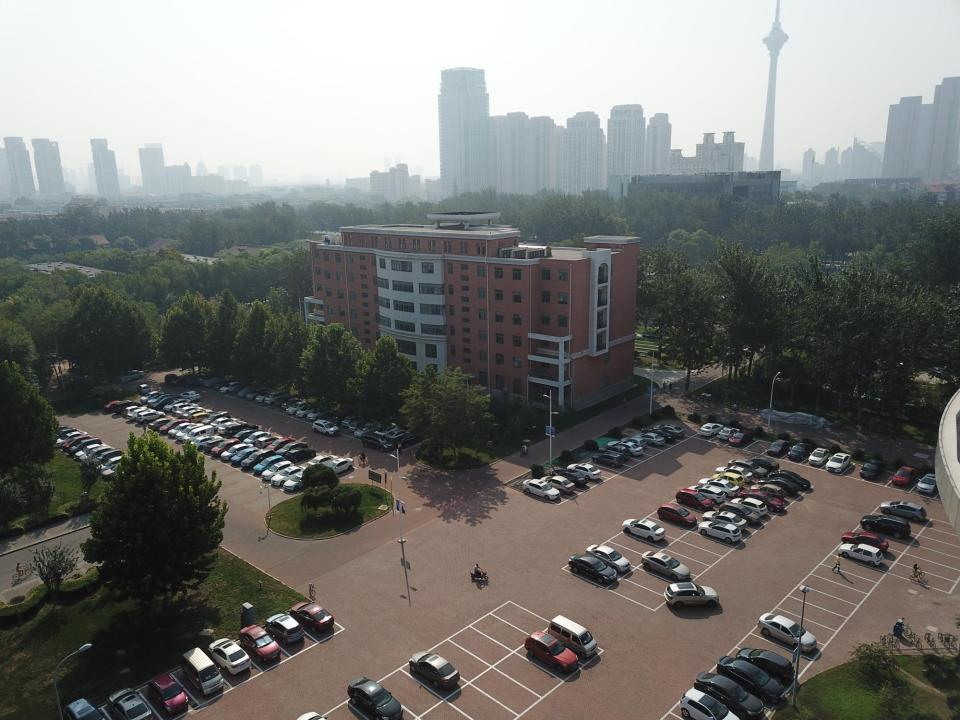car: (695, 670, 767, 718), (717, 655, 784, 703), (346, 675, 404, 720), (758, 612, 816, 651), (524, 631, 578, 672), (735, 646, 794, 682), (407, 650, 460, 688), (678, 687, 742, 718), (106, 687, 156, 720), (566, 553, 618, 584), (640, 550, 691, 580), (664, 582, 720, 609), (289, 601, 335, 633), (207, 640, 252, 672), (266, 612, 304, 646), (240, 626, 279, 658), (586, 544, 631, 569), (622, 517, 666, 541), (62, 697, 107, 720), (698, 520, 742, 543), (838, 544, 884, 566), (840, 531, 888, 551), (719, 501, 762, 523), (740, 488, 784, 509), (657, 503, 697, 526), (675, 488, 714, 511), (521, 478, 560, 500), (699, 476, 739, 497), (703, 510, 746, 529), (272, 465, 307, 488), (770, 470, 812, 489), (242, 448, 275, 471), (688, 483, 724, 503), (360, 433, 394, 454), (759, 477, 800, 494), (728, 458, 766, 476), (732, 497, 768, 515), (552, 468, 586, 486), (66, 437, 102, 454), (743, 454, 781, 470), (567, 463, 602, 480), (541, 475, 574, 493), (859, 459, 886, 481), (221, 442, 253, 460), (254, 455, 284, 474), (286, 471, 314, 491), (750, 483, 787, 498), (263, 461, 293, 479), (825, 452, 850, 473), (715, 466, 752, 480), (893, 465, 915, 488), (609, 440, 642, 455), (213, 438, 242, 455), (592, 452, 624, 467), (80, 446, 112, 461), (98, 456, 128, 472), (309, 454, 339, 470), (176, 424, 204, 441), (231, 446, 259, 463), (159, 418, 188, 434), (74, 444, 107, 458), (311, 420, 339, 436), (710, 472, 744, 485), (63, 435, 92, 450), (327, 458, 354, 474), (918, 471, 936, 495), (635, 431, 665, 445), (191, 434, 221, 448), (788, 443, 810, 462), (599, 444, 631, 457), (102, 463, 127, 479), (809, 447, 828, 468), (225, 422, 258, 434), (767, 439, 789, 457), (655, 423, 685, 436), (729, 430, 753, 446), (168, 422, 195, 436), (204, 437, 229, 452), (643, 428, 677, 439), (330, 409, 353, 425), (275, 442, 308, 453), (286, 448, 316, 460), (699, 421, 720, 438), (354, 422, 381, 435), (284, 400, 313, 412), (55, 431, 86, 442), (113, 400, 141, 412), (136, 410, 164, 422), (202, 411, 230, 423), (622, 436, 649, 448), (147, 417, 174, 429), (718, 425, 738, 441), (308, 407, 334, 419), (398, 433, 424, 445), (218, 420, 249, 430), (376, 423, 398, 436), (139, 391, 164, 402), (268, 438, 295, 448), (244, 431, 271, 441), (386, 429, 409, 440), (147, 393, 178, 401), (234, 428, 264, 436), (298, 406, 322, 416), (212, 418, 238, 427), (120, 370, 146, 379), (175, 406, 204, 414), (163, 398, 192, 406), (256, 436, 279, 446), (342, 414, 361, 426), (151, 397, 183, 404), (105, 399, 123, 411), (185, 409, 215, 416), (94, 365, 113, 376), (180, 390, 200, 400), (280, 397, 300, 407), (186, 377, 206, 387), (246, 387, 264, 398), (349, 419, 367, 430), (164, 373, 182, 384), (172, 403, 200, 410), (132, 409, 156, 417), (239, 384, 255, 396), (124, 406, 147, 414), (215, 379, 233, 389), (221, 382, 241, 391), (192, 413, 211, 422), (204, 376, 223, 385), (52, 428, 76, 435), (257, 390, 270, 402), (137, 383, 150, 392), (54, 423, 70, 429), (236, 383, 248, 391)
van: (548, 616, 598, 658), (180, 648, 224, 693), (148, 675, 188, 712), (265, 389, 287, 403)
